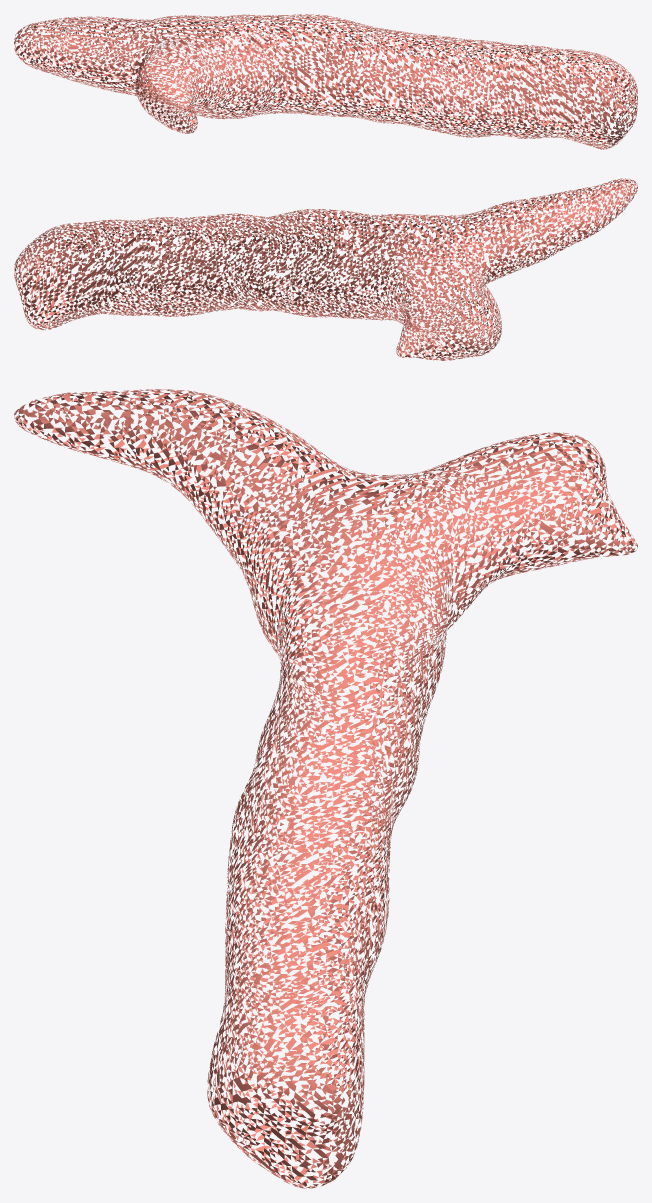
File: diseased.glb
The picture shows the model from 3 angles, top to bottom: view 1: azimuth 30°, elevation 25°; view 2: azimuth 150°, elevation 25°; view 3: azimuth 270°, elevation 25°; orthographic projection. The views are drawn at different scales.
Size of the model in its own units: 116 by 45.09 by 66.52.
